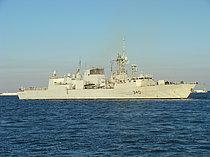MIL_Ship: (16, 45, 199, 101)
